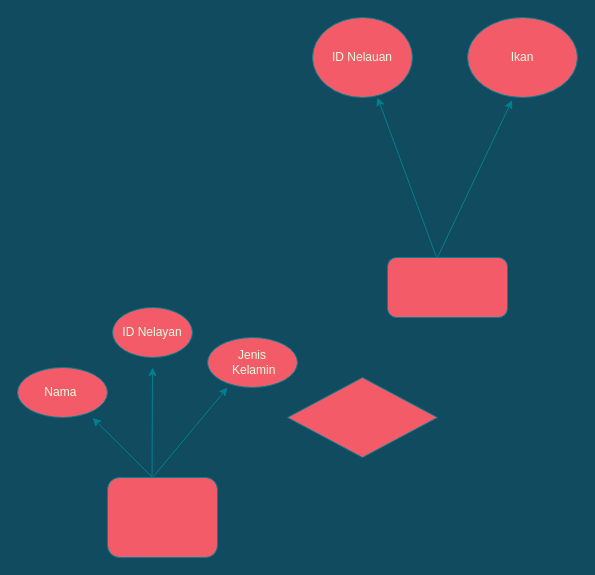
The diagram is 595 pixels wide and 575 high, and some of its shapes have lost their labels. Each missing label, with the centre of its shape:
Gudang: (447,287)
Nelayan: (162,517)
